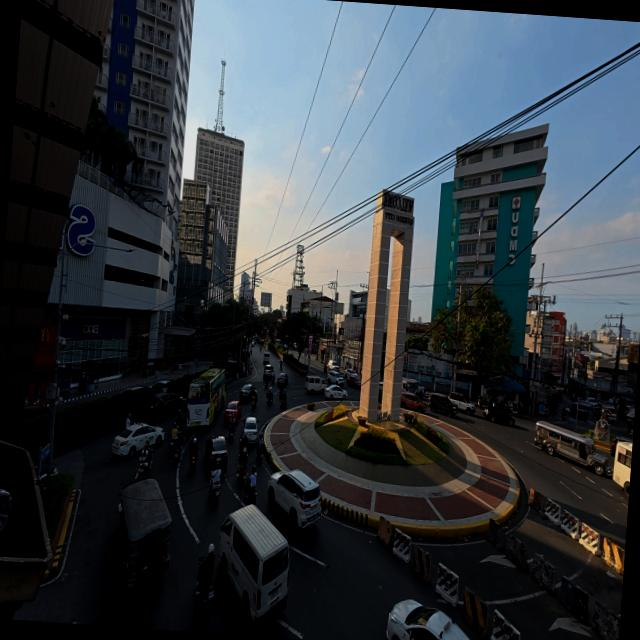Jeepneys: (117, 477, 170, 595), (534, 422, 611, 476)
bus: (186, 368, 225, 426), (612, 441, 632, 497)
car: (267, 470, 320, 531), (386, 600, 468, 639), (111, 423, 163, 457), (148, 392, 183, 418), (205, 435, 227, 470), (429, 393, 457, 417), (483, 406, 513, 425), (448, 393, 475, 414), (400, 392, 425, 413), (610, 436, 632, 456), (242, 417, 258, 443), (223, 401, 240, 423), (570, 401, 588, 421), (323, 385, 346, 400), (33, 459, 46, 483), (326, 370, 343, 386), (239, 384, 254, 402), (601, 406, 616, 422), (345, 374, 359, 388), (120, 386, 142, 394), (262, 364, 273, 380), (326, 359, 338, 372), (276, 373, 287, 387), (585, 397, 597, 408), (342, 369, 356, 378), (292, 342, 298, 350), (283, 343, 288, 351), (251, 341, 255, 347)
motorcycle: (199, 580, 212, 611), (208, 483, 220, 504), (237, 457, 246, 483), (137, 457, 148, 477), (245, 486, 256, 504), (173, 447, 181, 464), (189, 455, 196, 474), (256, 446, 263, 463), (228, 420, 234, 439), (560, 408, 567, 421), (169, 438, 175, 453), (266, 391, 272, 405), (279, 398, 286, 409), (251, 399, 256, 410), (264, 380, 267, 389)
vans: (218, 505, 288, 624), (305, 376, 326, 394), (262, 351, 269, 365)
